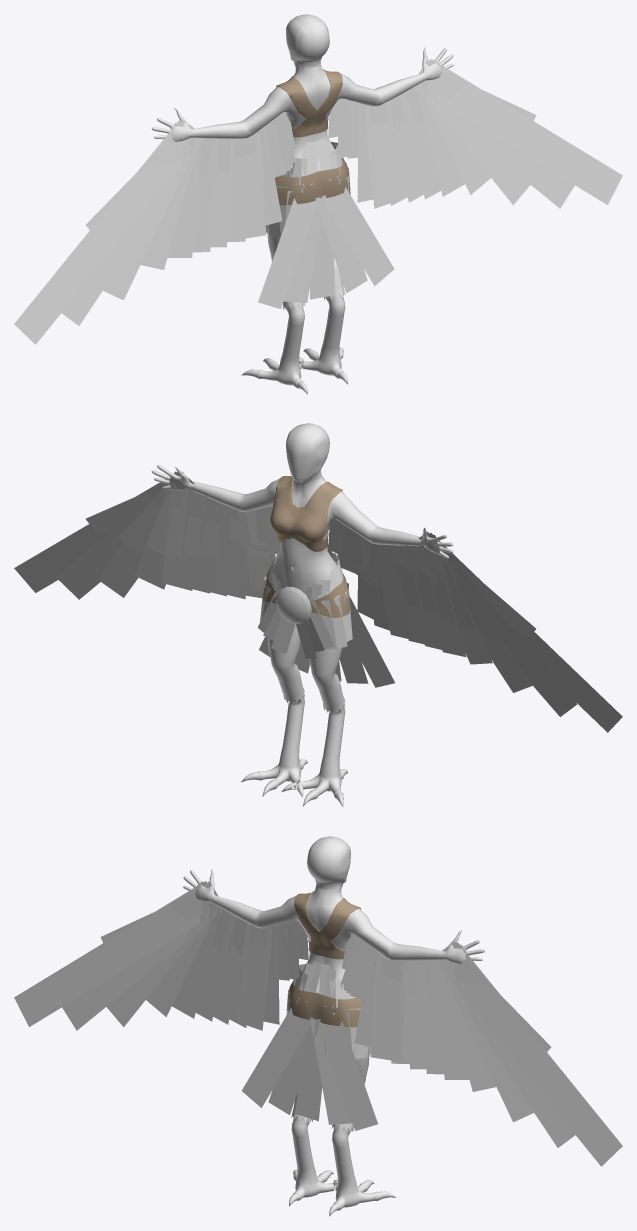
Rendered from TestModelNewFull.fbx.
3 renders of one model, top to bottom at view 1: azimuth 30°, elevation 25°; view 2: azimuth 150°, elevation 25°; view 3: azimuth 330°, elevation 25°, orthographic.
Visible parts, largest first — view 1: Body; view 2: Body; view 3: Body.
Boxes of the visible parts, left/top/right/bottom form: Body: left=14, top=14, right=622, bottom=394; Body: left=14, top=423, right=622, bottom=806; Body: left=14, top=836, right=622, bottom=1216.
Bounding box in the file's own units: 3.27 × 1.84 × 0.4238.
